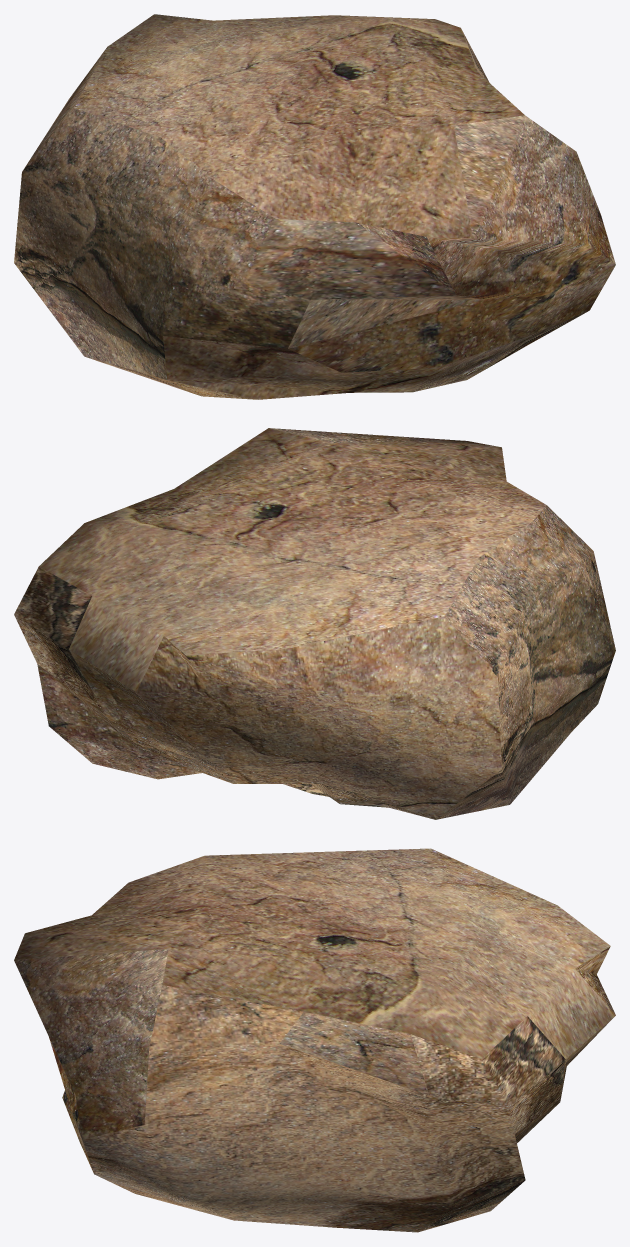
Rendered from rock_blender.glb.
3 views of the same model, one above another, from view 1: azimuth 30°, elevation 25°; view 2: azimuth 150°, elevation 25°; view 3: azimuth 270°, elevation 25° (orthographic).
Parts seen in each view (by area): view 1: Cube; view 2: Cube; view 3: Cube.
Boxes of the visible parts, x1,y1,x2,y2 form: Cube: [14, 14, 615, 399]; Cube: [14, 428, 615, 819]; Cube: [14, 848, 615, 1232].
Bounding box in the file's own units: 3.18 × 1.68 × 3.63.
1 material, 1 textured.
